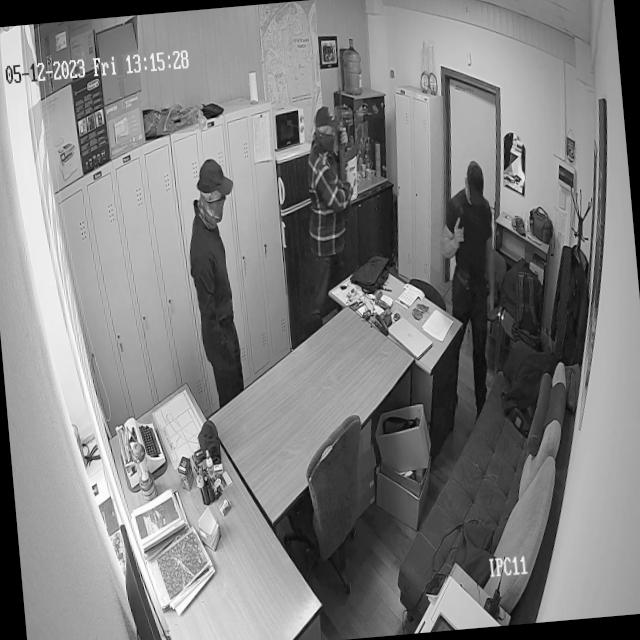gun: (330, 85, 360, 201), (451, 198, 469, 254)
person: (182, 156, 251, 402)
person with a gun: (291, 84, 370, 333), (434, 160, 507, 412)
